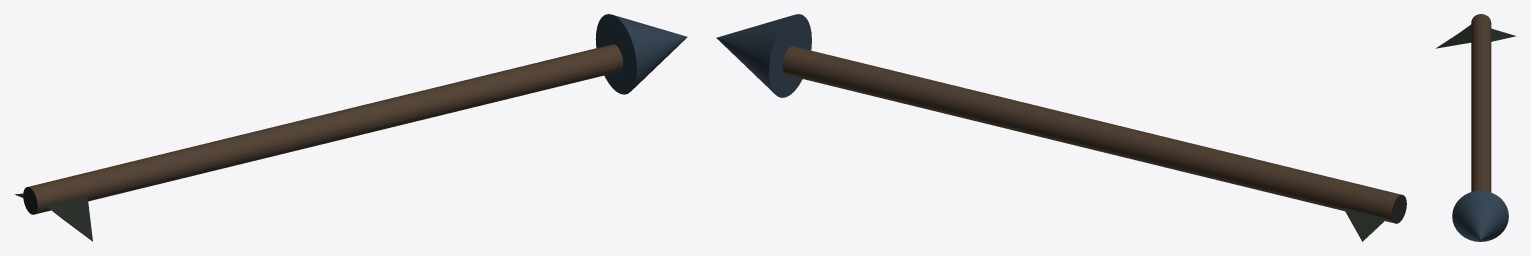
The model's file is Crossbow_Bolt.fbx.
The picture shows the model from 3 angles, left to right: view 1: azimuth 30°, elevation 25°; view 2: azimuth 150°, elevation 25°; view 3: azimuth 270°, elevation 25°; orthographic projection. The views are drawn at different scales.
Visible parts, largest first — view 1: Arrow; view 2: Arrow; view 3: Arrow.
Boxes of the visible parts, box(x1,y1,x2,y2) form: Arrow: box(14, 14, 687, 241); Arrow: box(716, 14, 1406, 241); Arrow: box(1436, 14, 1516, 241).
Size of the model in its own units: 289 by 31.43 by 45.3.
